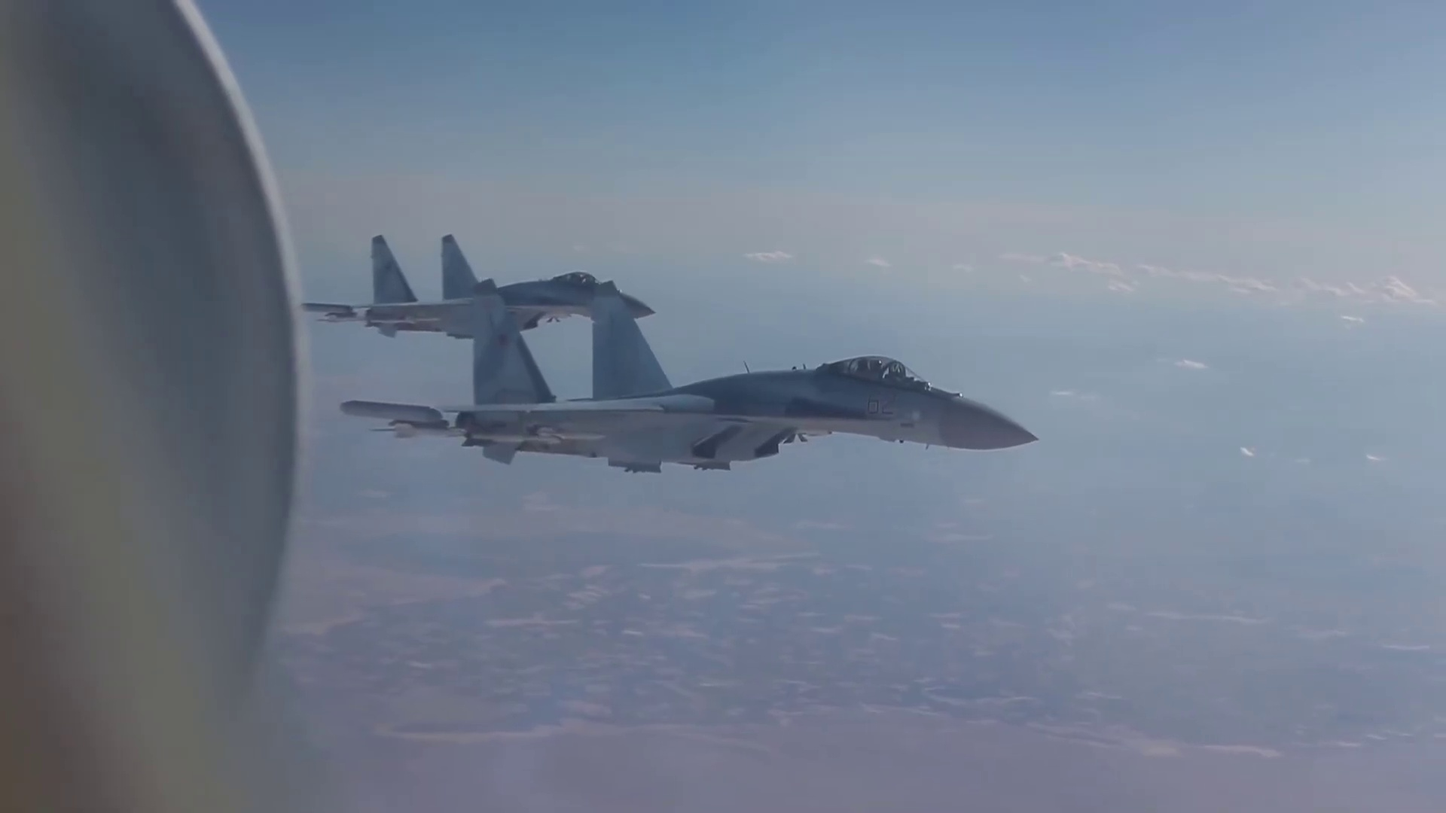Su35: (300, 235, 1039, 474), (299, 227, 655, 341)
